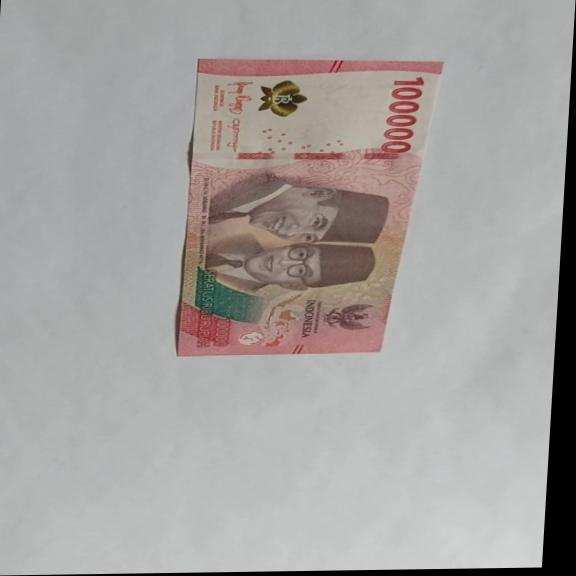Kertas: (173, 55, 445, 358), (378, 76, 427, 154)
